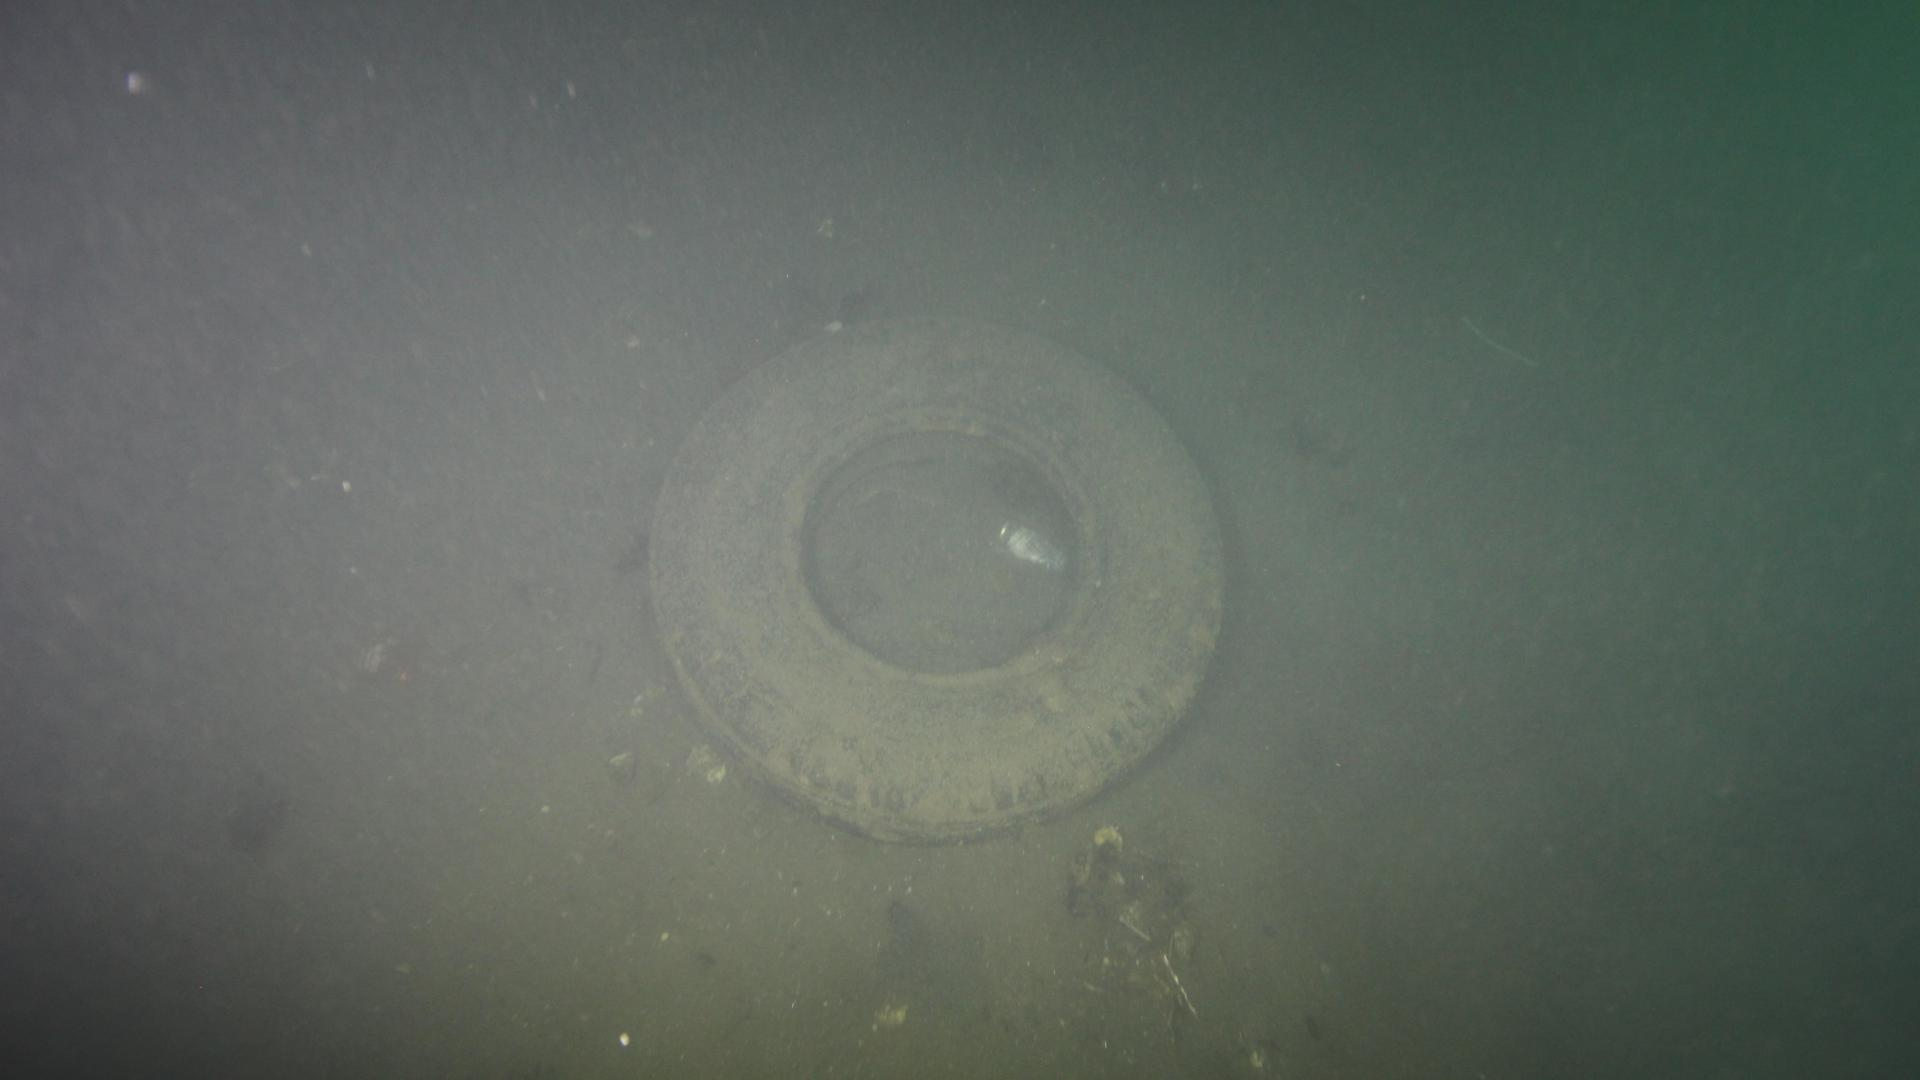tire: (642, 307, 1237, 833)
